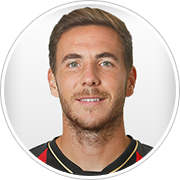face: (44, 42, 139, 126)
